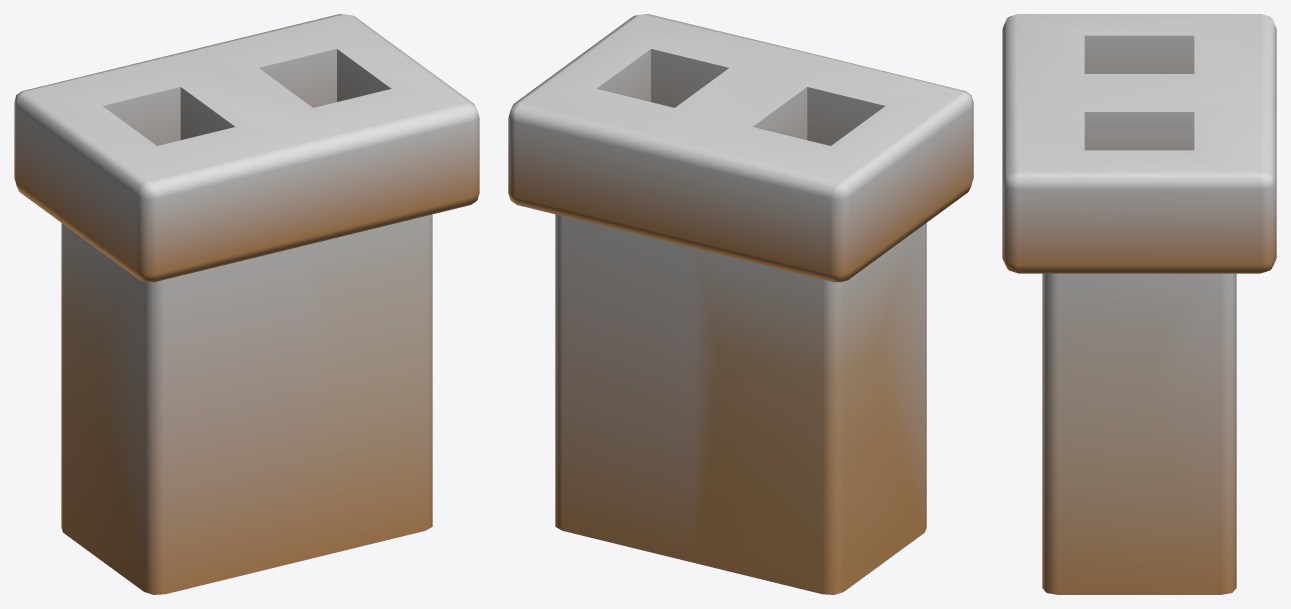
File: NF_Prop_Chimney 01.fbx
3 views of the same model, side by side, from view 1: azimuth 30°, elevation 25°; view 2: azimuth 150°, elevation 25°; view 3: azimuth 270°, elevation 25° (orthographic).
Parts seen in each view (by area): view 1: chimney 1; view 2: chimney 1; view 3: chimney 1.
Part boxes in pixels (left/top/right/bottom): chimney 1: left=14, top=14, right=479, bottom=594; chimney 1: left=508, top=14, right=973, bottom=594; chimney 1: left=1002, top=14, right=1276, bottom=594.
Size of the model in its own units: 1.91 by 2.3 by 1.33.
